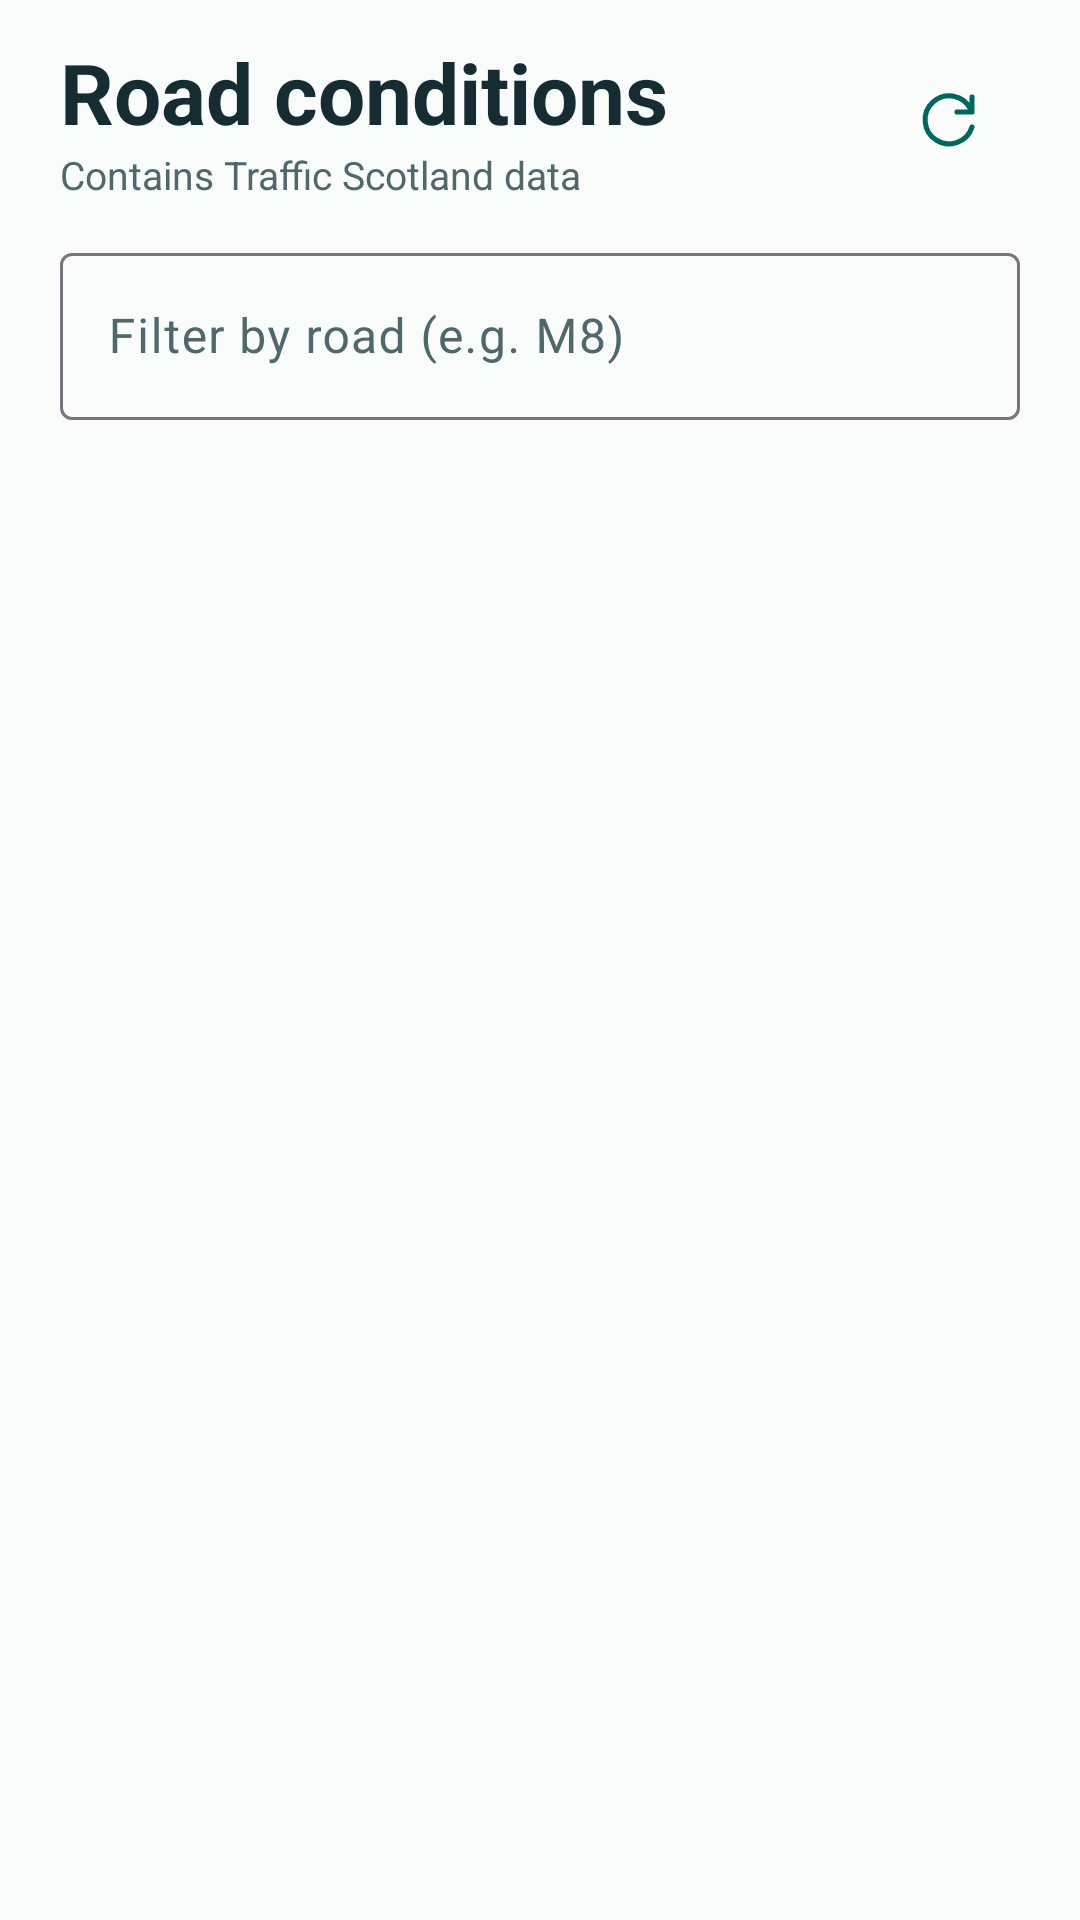

Icons on this 1080 × 1920 Android screen, each with the point to tap as (x,y):
Refresh traffic feeds: (948,120)
